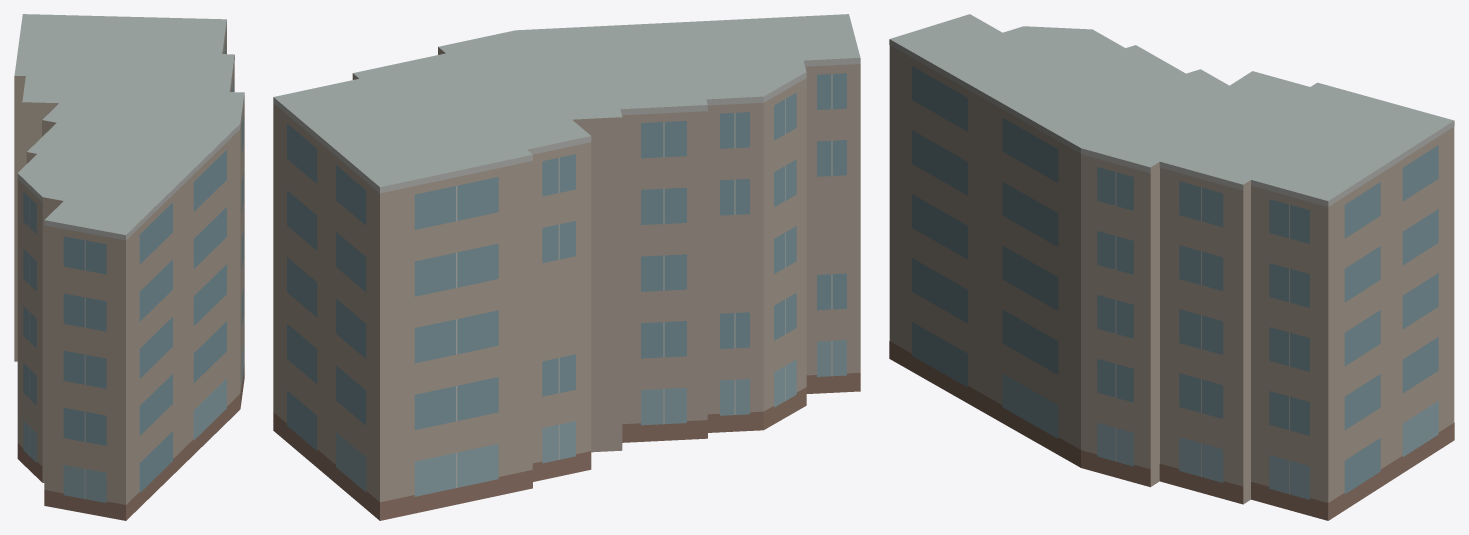
File: survey-upis-32773879.glb
The picture shows the model from 3 angles, left to right: view 1: azimuth 30°, elevation 25°; view 2: azimuth 150°, elevation 25°; view 3: azimuth 270°, elevation 25°; orthographic projection. The views are drawn at different scales.
Visible parts, largest first — view 1: survey-upis-32773879.tmp; view 2: survey-upis-32773879.tmp; view 3: survey-upis-32773879.tmp.
Part boxes in pixels (x1,y1,x2,y2): survey-upis-32773879.tmp: [14, 14, 244, 520]; survey-upis-32773879.tmp: [273, 14, 860, 520]; survey-upis-32773879.tmp: [889, 14, 1454, 520].
Bounding box in the file's own units: 16.64 × 13.25 × 21.23.
